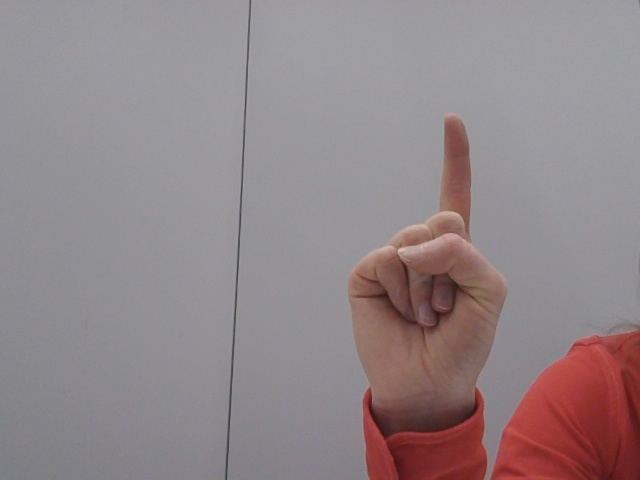up: (332, 103, 518, 463)
